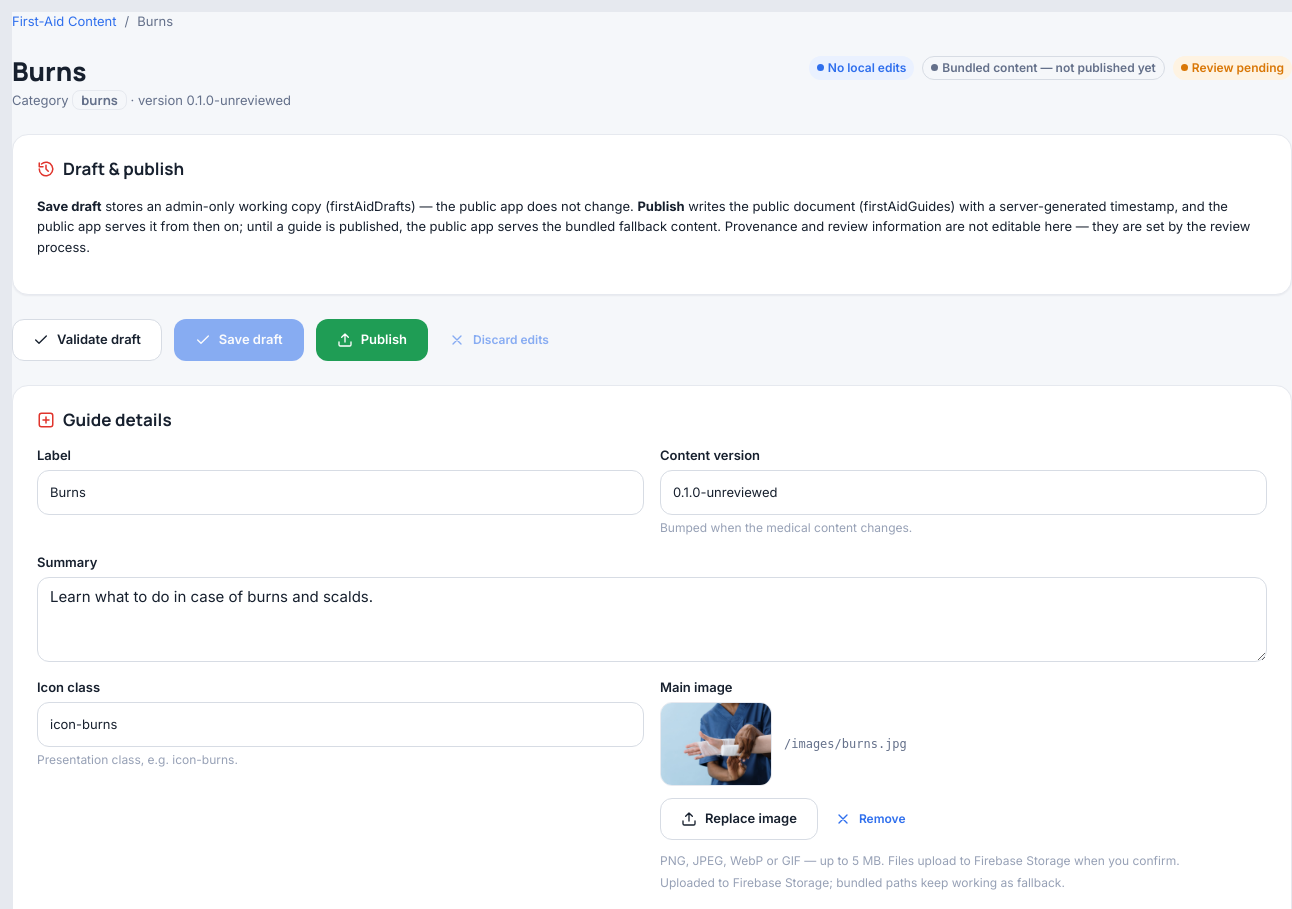
AdminGuideEditorPage — editor › validation passes on untouched content and says it is ready
Expected: the heading "Burns" is shown, [12,52,87,88]
Click the button "Validate draft" at (87, 340), box [12,319,162,361]
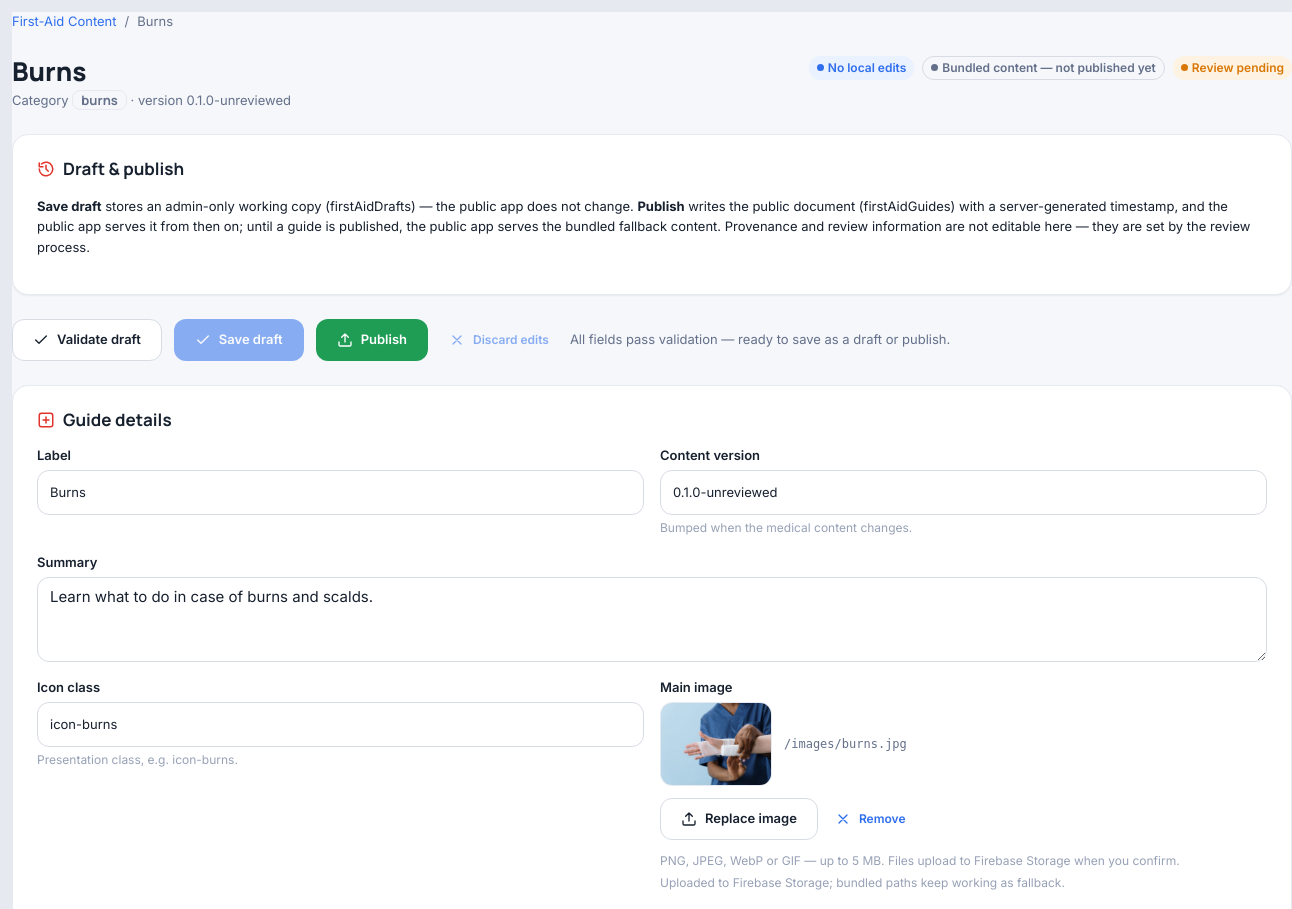
Now the text "All fields pass validation — ready to save as a draft or publish." is shown, box [570,330,950,350]
